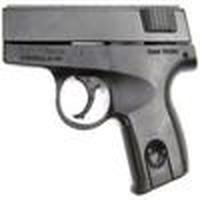gun: (2, 1, 194, 199)
